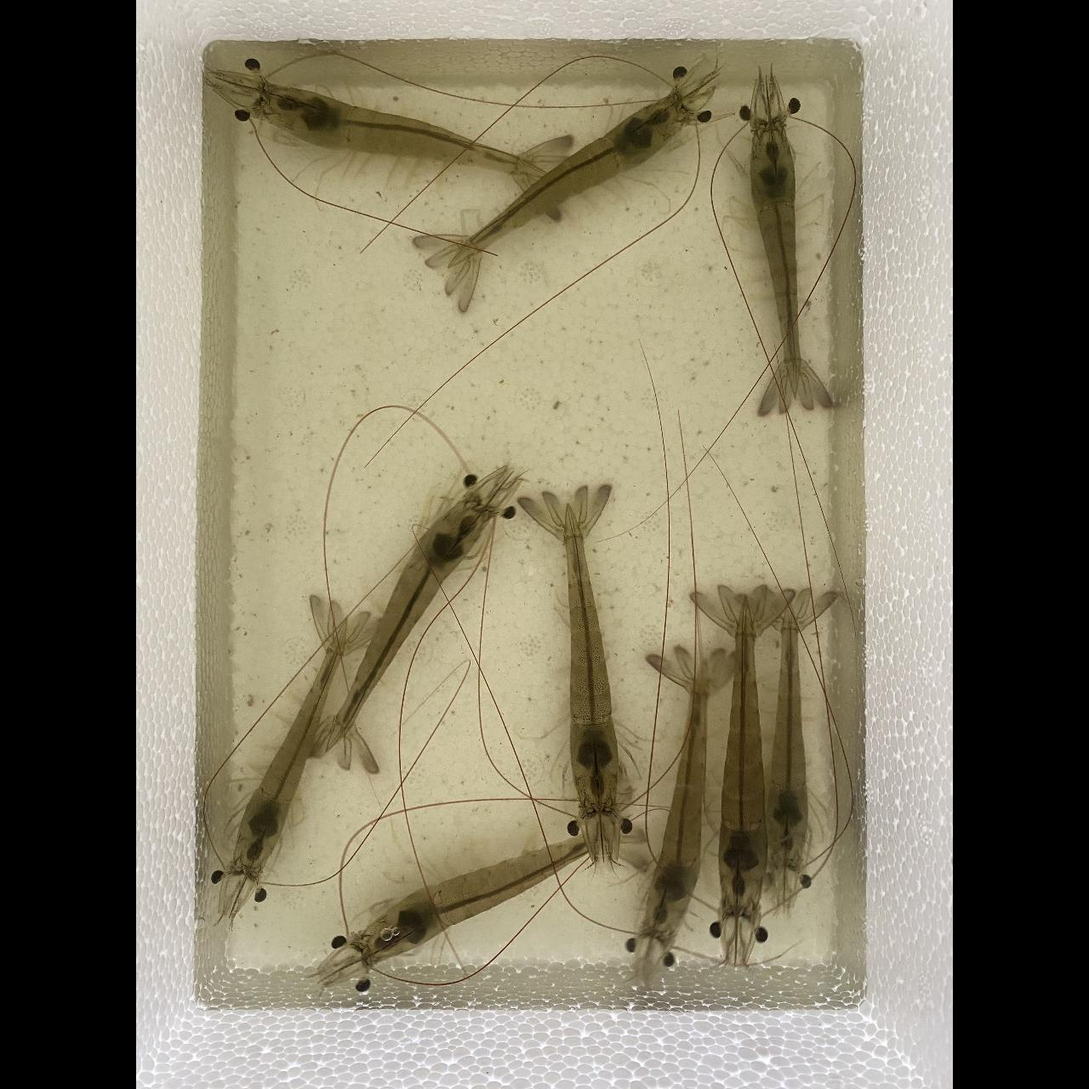top_shrimp: (444, 97, 684, 264), (330, 500, 487, 745), (361, 832, 597, 958), (231, 621, 345, 873), (260, 88, 543, 175), (645, 662, 706, 938), (565, 505, 619, 808), (721, 601, 769, 914), (750, 123, 800, 396), (767, 607, 807, 868)
